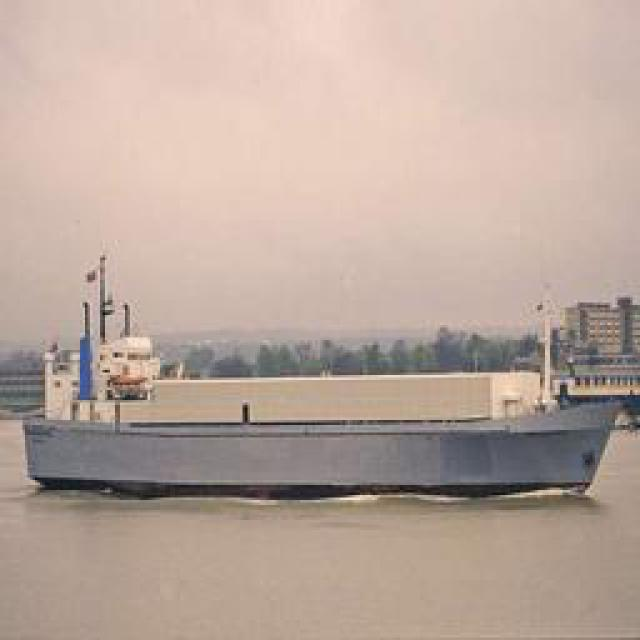Ship: (20, 250, 626, 504)
